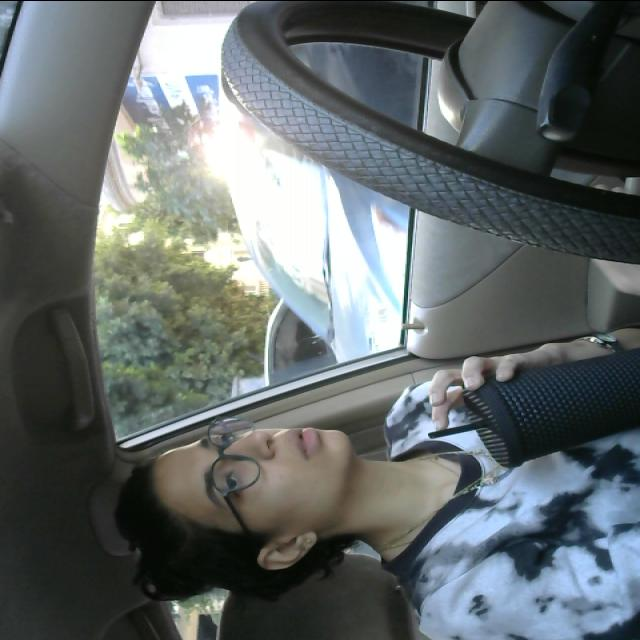drinking: (427, 330, 640, 468)
